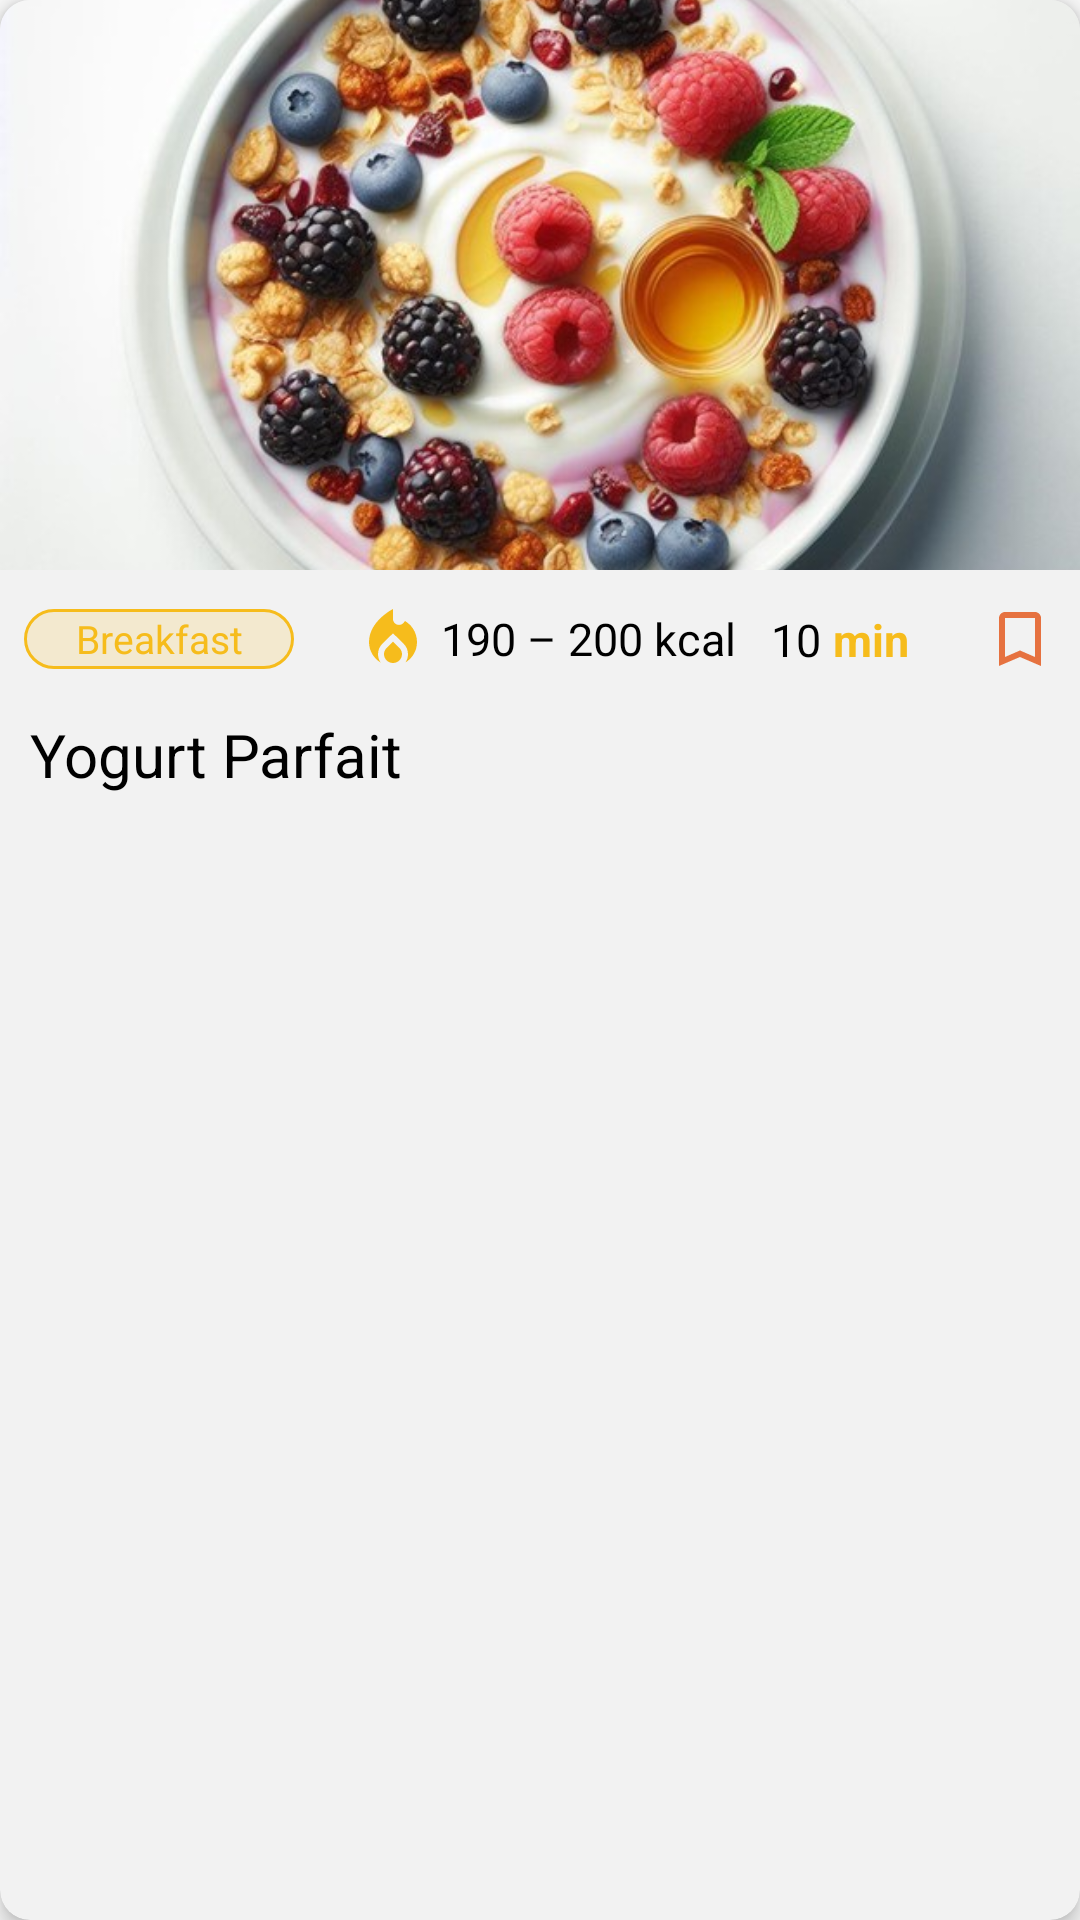

Point at icon controls on the screen. Image size 1080px x 1920px, points as point (x, y).
SAVE: point (1020, 639)
